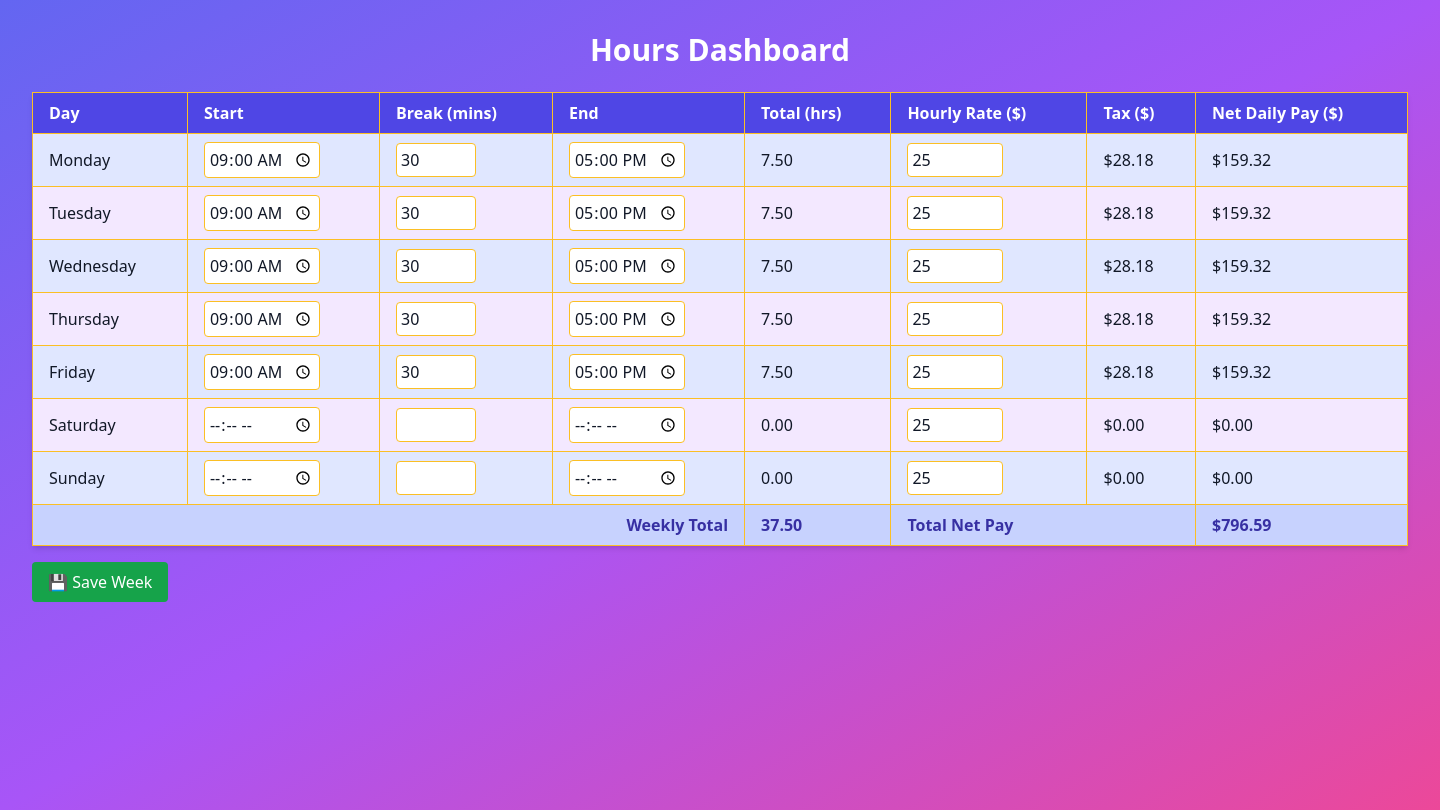
Test case: HoursDashboard › updates total hours and net pay on break change
The image size is (1440, 810).
Replace the text in the 1st number field showing "30" with "60" at (436, 160), box [396,143,476,177]
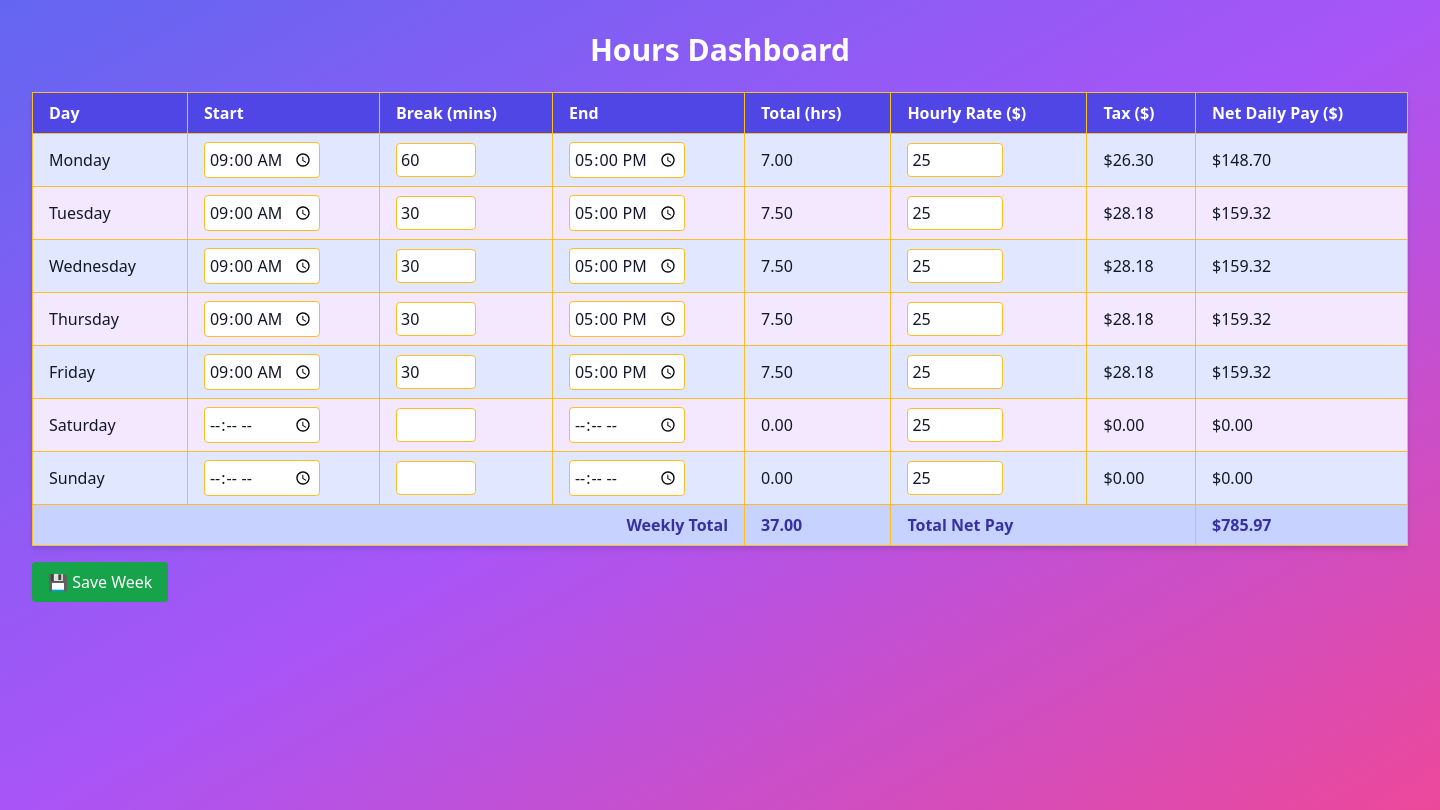
Now the text "7.00" is shown, box [745,134,891,186]
Now the text "$26.30" is shown, box [1087,134,1196,186]
Now the text "$148.70" is shown, box [1196,134,1408,186]
